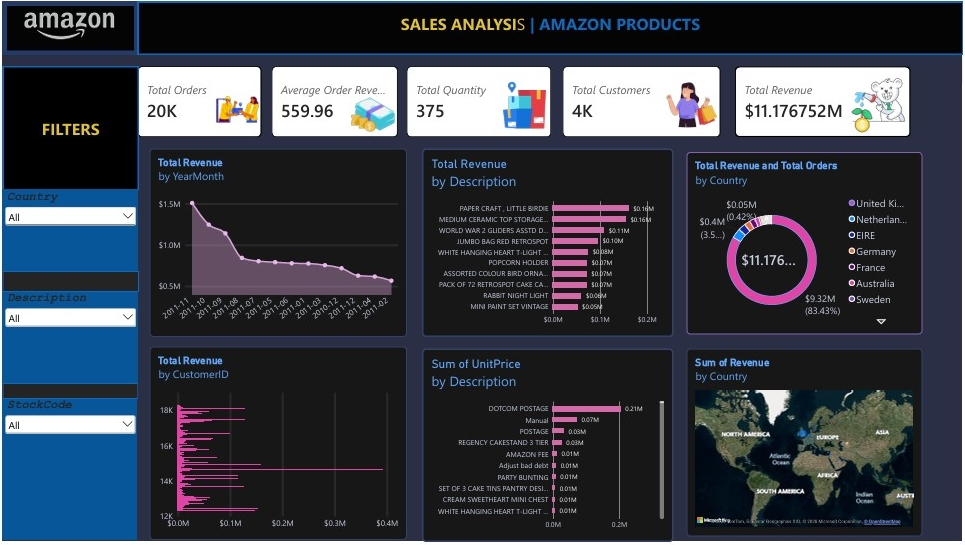

What the dashboard file says about the page in this screenshot:
{"tool":"powerbi","page":{"name":"Page 1","canvas":[1920,1080],"ordinal":0},"visuals":[{"type":"cardVisual","fields":{"Data":["amazon.Total Customers"]},"box":[1120,128.5,314.8,141.6],"z":0},{"type":"cardVisual","fields":{"Data":["amazon.Total Quantity"]},"box":[807.9,128.5,288.5,141.6],"z":1000},{"type":"cardVisual","fields":{"Data":["amazon.Average Order Revenue"]},"box":[537.7,128.5,251.8,141.6],"z":2000},{"type":"cardVisual","fields":{"Data":["amazon.Total Revenue"]},"box":[1463.6,128.5,351.5,141.6],"z":3000},{"type":"textbox","box":[151.2,20.2,12.6,420.8],"z":4000},{"type":"cardVisual","fields":{"Data":["amazon.Total Orders"]},"box":[270.2,128.5,246.6,141.6],"z":5000},{"type":"shape","box":[0,0,270.2,104.9],"z":6000},{"type":"image","box":[0,0,270.2,104.9],"z":7000},{"type":"shape","box":[270.2,0,1649.8,104.9],"z":8000},{"type":"textbox","box":[270.2,21,1649.8,83.9],"z":9000},{"type":"shape","box":[0,128.9,270.9,247.2],"z":10000},{"type":"textbox","box":[0,231.5,270.9,144.7],"z":11000},{"type":"slicer","fields":{"Values":["amazon.Country"]},"box":[0,376.1,270.9,163.1],"z":12000},{"type":"slicer","fields":{"Values":["amazon.Description"]},"box":[0,578.6,270.9,184.1],"z":13000},{"type":"shape","box":[0,539.2,270.9,39.5],"z":14000},{"type":"lineChart","fields":{"Category":["amazon.YearMonth"],"Y":["amazon.Total Revenue"]},"box":[293.4,293.4,514.5,376.3],"z":15000},{"type":"clusteredBarChart","fields":{"Category":["amazon.Description"],"Y":["amazon.Total Revenue"]},"box":[837.6,293.4,503.9,376.3],"z":16000},{"type":"donutChart","fields":{"Category":["amazon.Country"],"Y":["amazon.Total Revenue"]},"box":[1367,299.8,472,365.7],"z":17000},{"type":"map","fields":{"Category":["amazon.Country"],"Size":["Sum(amazon.Revenue)"]},"box":[1367,693.1,472,376.3],"z":18000},{"type":"barChart","fields":{"Category":["amazon.CustomerID"],"Y":["amazon.Total Revenue"]},"box":[293.4,688.8,514.5,386.9],"z":18001},{"type":"clusteredBarChart","fields":{"Category":["amazon.Description"],"Y":["Sum(amazon.UnitPrice)"]},"box":[837.6,693.1,503.9,386.9],"z":18002},{"type":"slicer","fields":{"Values":["amazon.StockCode"]},"box":[0,793,270,282.8],"z":18003},{"type":"shape","box":[0,763.2,270,29.8],"z":18004},{"type":"image","box":[1688,129.7,125.4,153.1],"z":18005},{"type":"image","box":[420.9,146.7,95.7,136.1],"z":18006},{"type":"image","box":[1320.2,129.7,114.8,150.9],"z":18007},{"type":"image","box":[690.9,168,97.8,112.7],"z":18008},{"type":"image","box":[960.9,153.1,163.7,106.3],"z":18009}]}

Visuals, with their boxes in screenshot pixels (x1, y1, x2, y2), scaled from the page's 1920x1080 canvas onto the 965x545 screenshot:
cardVisual - amazon.Total Customers: [563,65,721,136]
cardVisual - amazon.Total Quantity: [406,65,551,136]
cardVisual - amazon.Average Order Revenue: [270,65,397,136]
cardVisual - amazon.Total Revenue: [736,65,912,136]
textbox: [76,10,82,223]
cardVisual - amazon.Total Orders: [136,65,260,136]
shape: [0,0,136,53]
image: [0,0,136,53]
shape: [136,0,964,53]
textbox: [136,11,964,53]
shape: [0,65,136,190]
textbox: [0,117,136,190]
slicer - amazon.Country: [0,190,136,272]
slicer - amazon.Description: [0,292,136,385]
shape: [0,272,136,292]
lineChart - amazon.YearMonth x amazon.Total Revenue: [147,148,406,338]
clusteredBarChart - amazon.Description x amazon.Total Revenue: [421,148,674,338]
donutChart - amazon.Country x amazon.Total Revenue: [687,151,924,336]
map - amazon.Country x Sum(amazon.Revenue): [687,350,924,540]
barChart - amazon.CustomerID x amazon.Total Revenue: [147,348,406,543]
clusteredBarChart - amazon.Description x Sum(amazon.UnitPrice): [421,350,674,544]
slicer - amazon.StockCode: [0,400,136,543]
shape: [0,385,136,400]
image: [848,65,911,143]
image: [212,74,260,143]
image: [664,65,721,142]
image: [347,85,396,142]
image: [483,77,565,131]
